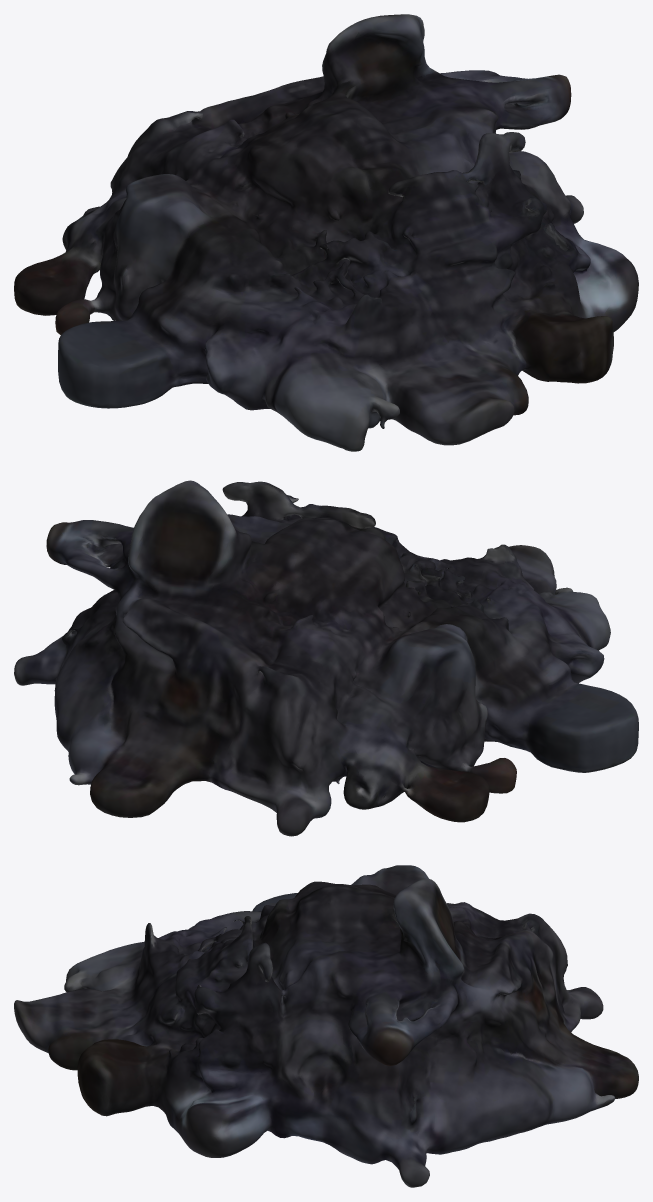
Rendered from trash2.glb.
3 renders of one model, top to bottom at view 1: azimuth 30°, elevation 25°; view 2: azimuth 150°, elevation 25°; view 3: azimuth 270°, elevation 25°, orthographic. The views are drawn at different scales.
Visible parts, largest first — view 1: world; view 2: world; view 3: world.
Part boxes in pixels (x1,y1,x2,y2): world: (14,14,638,451); world: (14,480,638,836); world: (14,865,638,1187).
Bounding box in the file's own units: 0.5444 × 0.2257 × 0.5705.
Materials: 1 (1 with a texture image).
